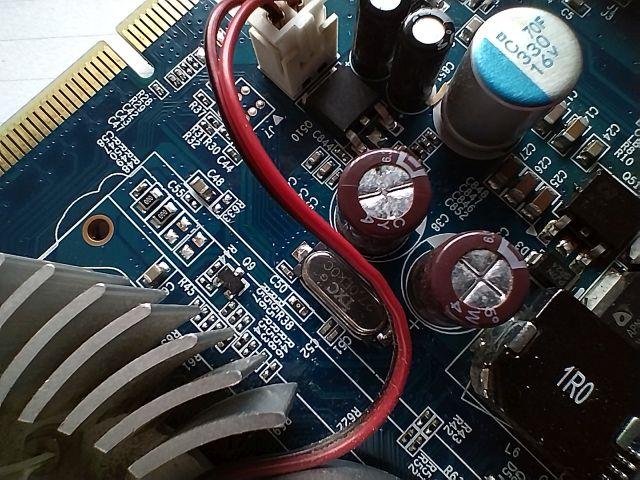capacitor: (518, 174, 564, 226), (477, 152, 530, 197), (558, 101, 587, 162), (182, 162, 222, 206), (138, 257, 172, 296), (296, 142, 328, 175)
resistor: (256, 354, 284, 388), (190, 84, 215, 116), (232, 324, 255, 356), (406, 430, 430, 460), (416, 401, 438, 432), (205, 253, 228, 275), (219, 295, 238, 319)
